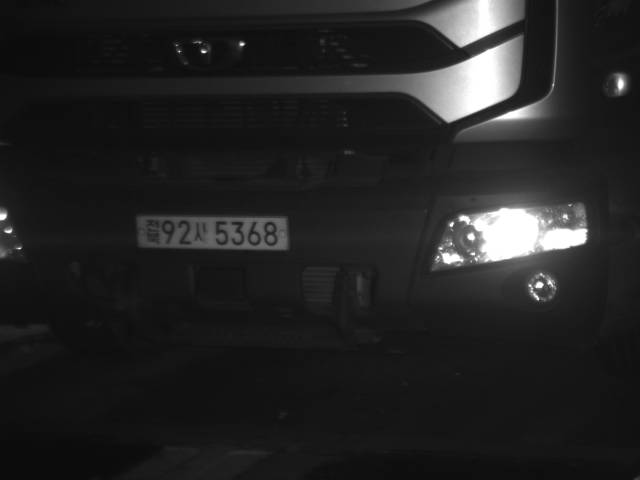car: (1, 1, 639, 369)
plate: (134, 212, 294, 253)
